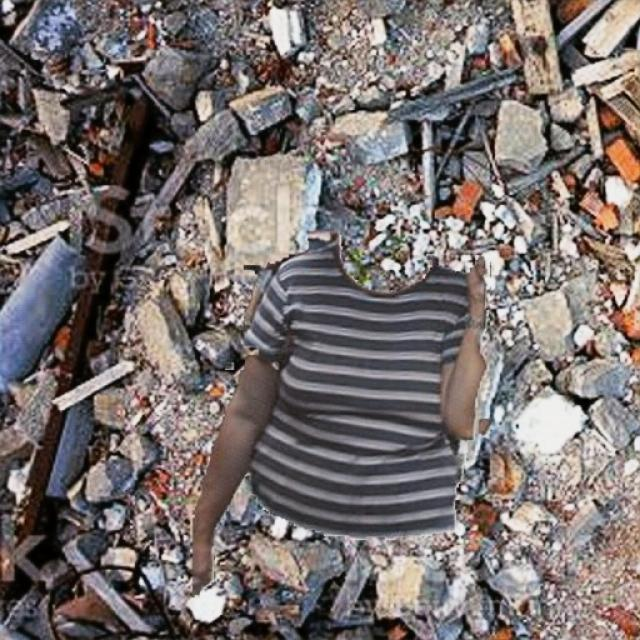Person in Rubble: (192, 232, 490, 596)
